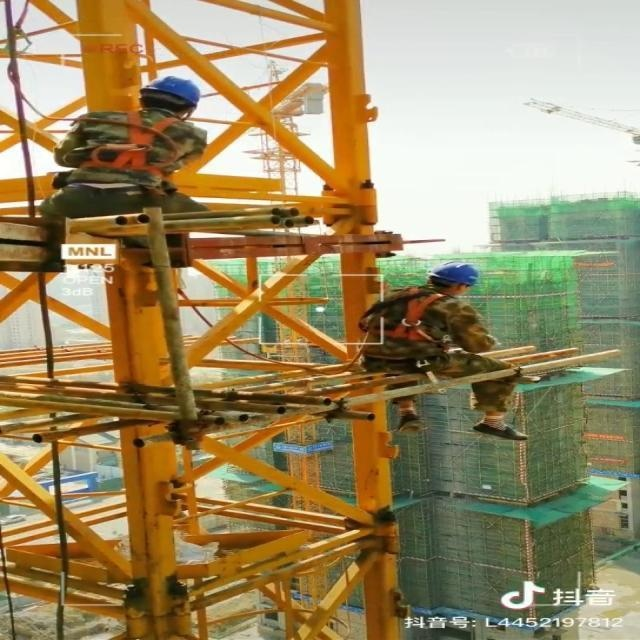Arnes_seguridad: (60, 105, 198, 191), (376, 284, 466, 354)
